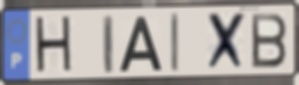A: (117, 15, 164, 73)
B: (249, 11, 289, 70)
H: (33, 14, 75, 78)
I: (101, 13, 115, 76), (169, 11, 181, 75)
X: (205, 9, 248, 73)
